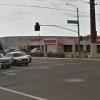Traffic light: (29, 15, 53, 40)
